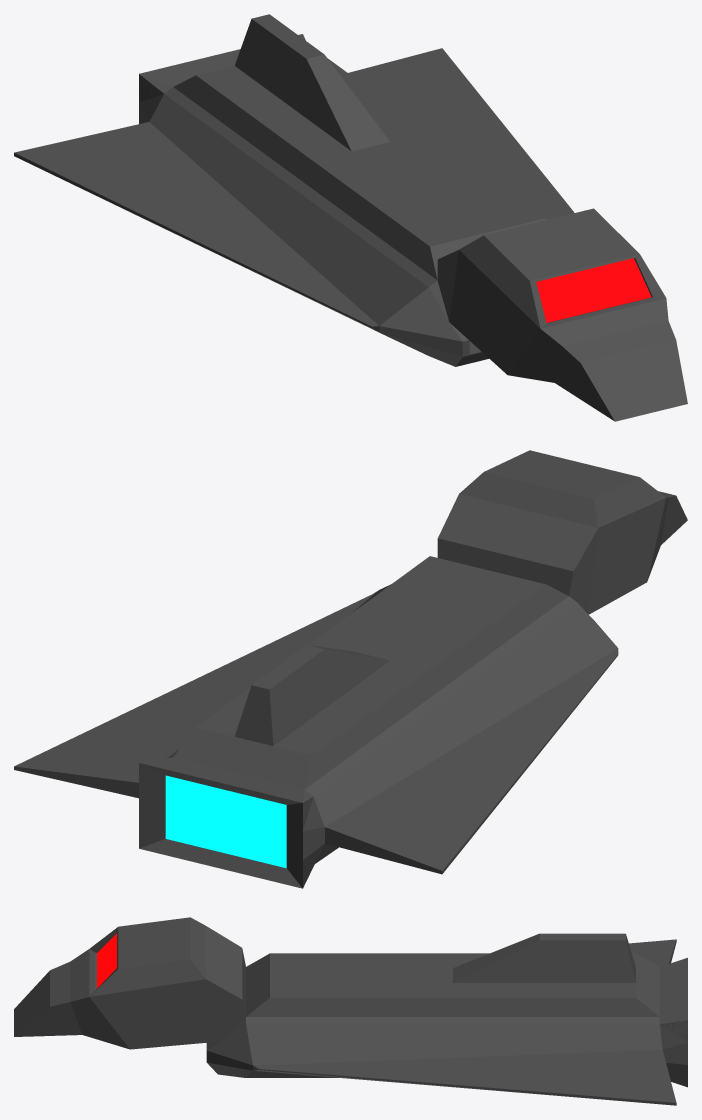
Rendered from Ship.glb.
The picture shows the model from 3 angles, top to bottom: view 1: azimuth 30°, elevation 25°; view 2: azimuth 150°, elevation 25°; view 3: azimuth 270°, elevation 25°; orthographic projection. The views are drawn at different scales.
Parts seen in each view (by area): view 1: Ship; view 2: Ship; view 3: Ship.
Boxes of the visible parts, left/top/right/bottom form: Ship: left=14, top=14, right=687, bottom=421; Ship: left=14, top=450, right=687, bottom=888; Ship: left=14, top=917, right=687, bottom=1105.
Bounding box in the file's own units: 17.23 × 5.85 × 30.
